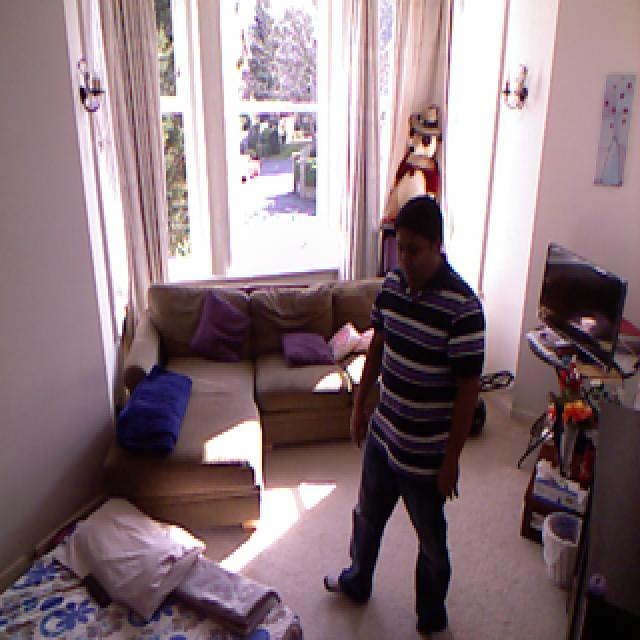standing: (331, 189, 489, 625)
